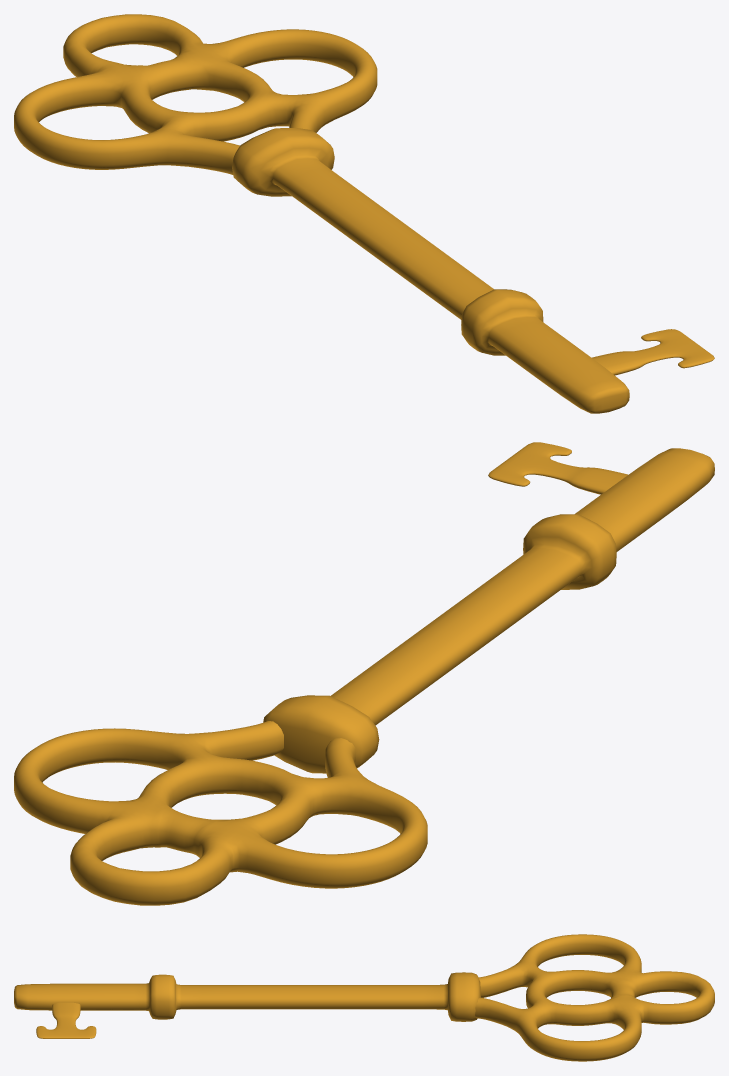
Rendered from Symbolic_Key.fbx.
The picture shows the model from 3 angles, top to bottom: view 1: azimuth 30°, elevation 25°; view 2: azimuth 150°, elevation 25°; view 3: azimuth 270°, elevation 25°; orthographic projection. The views are drawn at different scales.
Parts seen in each view (by area): view 1: Symbolic_Key; view 2: Symbolic_Key; view 3: Symbolic_Key.
Part boxes in pixels (left/top/right/bottom): Symbolic_Key: left=14, top=14, right=714, bottom=413; Symbolic_Key: left=14, top=442, right=714, bottom=905; Symbolic_Key: left=14, top=934, right=714, bottom=1061.
Bounding box in the file's own units: 22.34 × 3.7 × 58.58.
